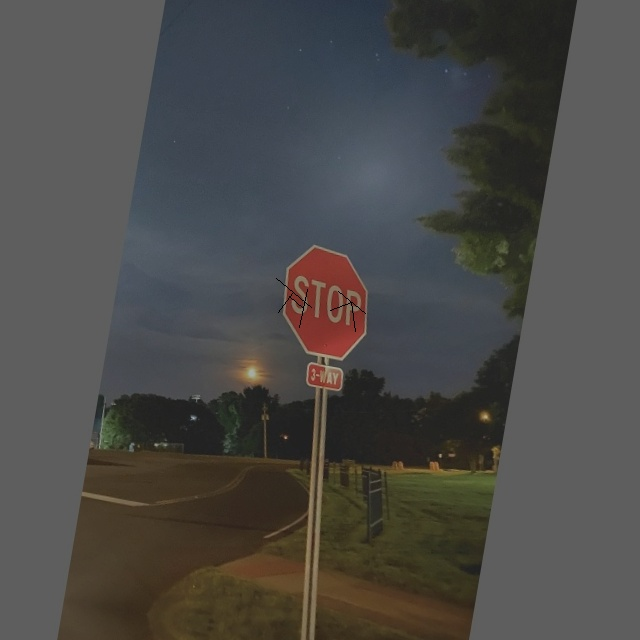Stop: (273, 241, 380, 365)
